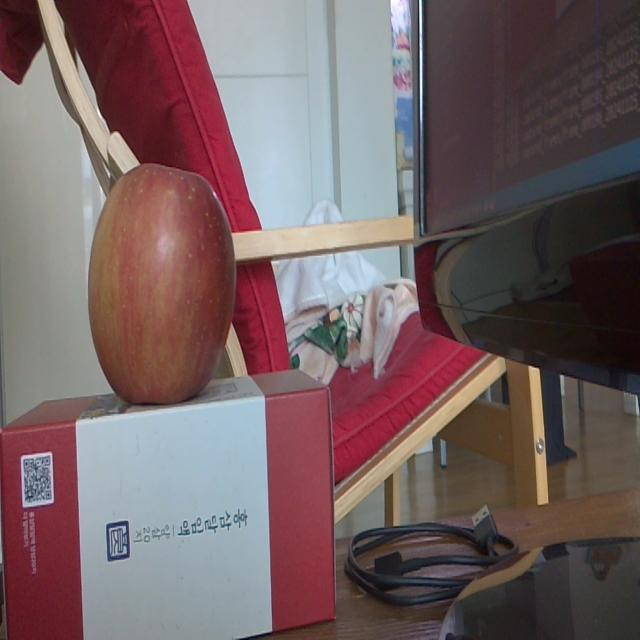apple: (88, 163, 234, 399)
